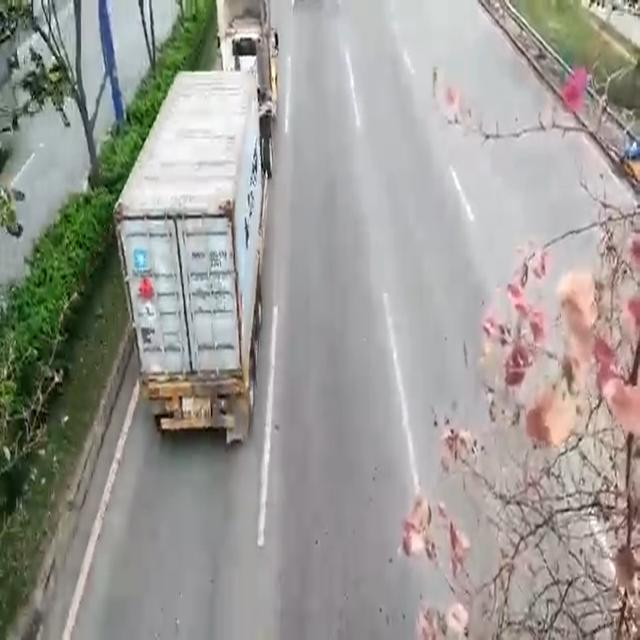truck: (136, 2, 262, 450)
